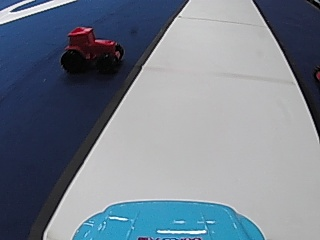tractor: (60, 25, 125, 74)
